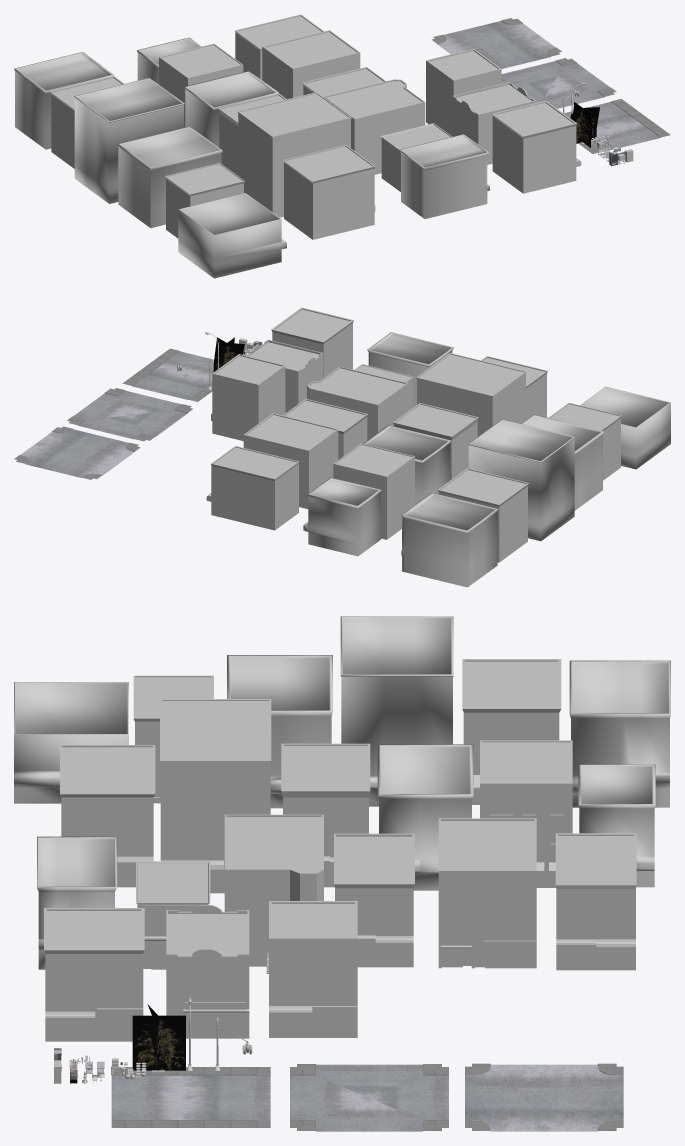
Rendered from Pizzeria_Props.fbx.
3 renders of one model, top to bottom at view 1: azimuth 30°, elevation 25°; view 2: azimuth 150°, elevation 25°; view 3: azimuth 270°, elevation 25°, orthographic. The views are drawn at different scales.
Parts seen in each view (by area): view 1: building_08, building_16, building_07, building_13, building_19, building_01, building_15, building_03, building_18, building_05, building_21, Road.011 (+13 smaller); view 2: building_16, building_18, building_06, building_08, building_21, building_12, building_05, building_11, building_03, building_13, Road.011, Road.001 (+13 smaller); view 3: building_08, building_16, building_05, building_19, building_21, building_18, building_06, Road.011, Road.001, building_20, building_03, building_07 (+13 smaller).
Part boxes in pixels (x1,y1,x2,y2): building_08: (237, 92, 351, 217); building_16: (74, 78, 184, 203); building_07: (283, 145, 375, 239); building_13: (178, 193, 286, 278); building_19: (492, 100, 581, 193); building_01: (399, 134, 489, 218); building_15: (117, 126, 222, 228); building_03: (324, 79, 425, 174); building_18: (14, 52, 114, 149); building_05: (262, 30, 360, 99); building_21: (426, 48, 501, 136); Road.011: (431, 18, 561, 68); building_16: (468, 419, 575, 541); building_18: (401, 493, 498, 587); building_06: (206, 446, 299, 530); building_08: (416, 353, 526, 436); building_21: (211, 354, 285, 440); building_12: (303, 477, 381, 556); building_05: (243, 413, 338, 508); building_11: (333, 443, 414, 539); building_03: (307, 366, 407, 440); building_13: (580, 386, 670, 469); Road.011: (14, 426, 140, 479); Road.001: (67, 388, 193, 441); building_08: (160, 699, 271, 893); building_16: (340, 616, 453, 806); building_05: (438, 818, 536, 968); building_19: (44, 908, 144, 1041); building_21: (269, 901, 357, 1037); building_18: (569, 660, 670, 807); building_06: (555, 833, 636, 970); Road.011: (465, 1063, 623, 1131); Road.001: (290, 1064, 448, 1131); building_20: (166, 905, 249, 1038); building_03: (224, 814, 323, 973); building_07: (60, 745, 155, 887).
Size of the model in its own units: 11540 by 1863 by 8296.
